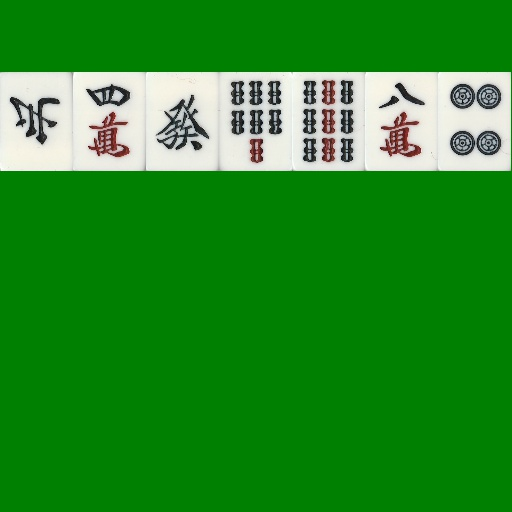4m: (73, 72, 146, 171)
4p: (438, 72, 511, 171)
7s: (219, 72, 292, 171)
8m: (365, 72, 438, 171)
9s: (292, 72, 365, 171)
hatsu: (146, 72, 219, 171)
north: (0, 72, 73, 171)
